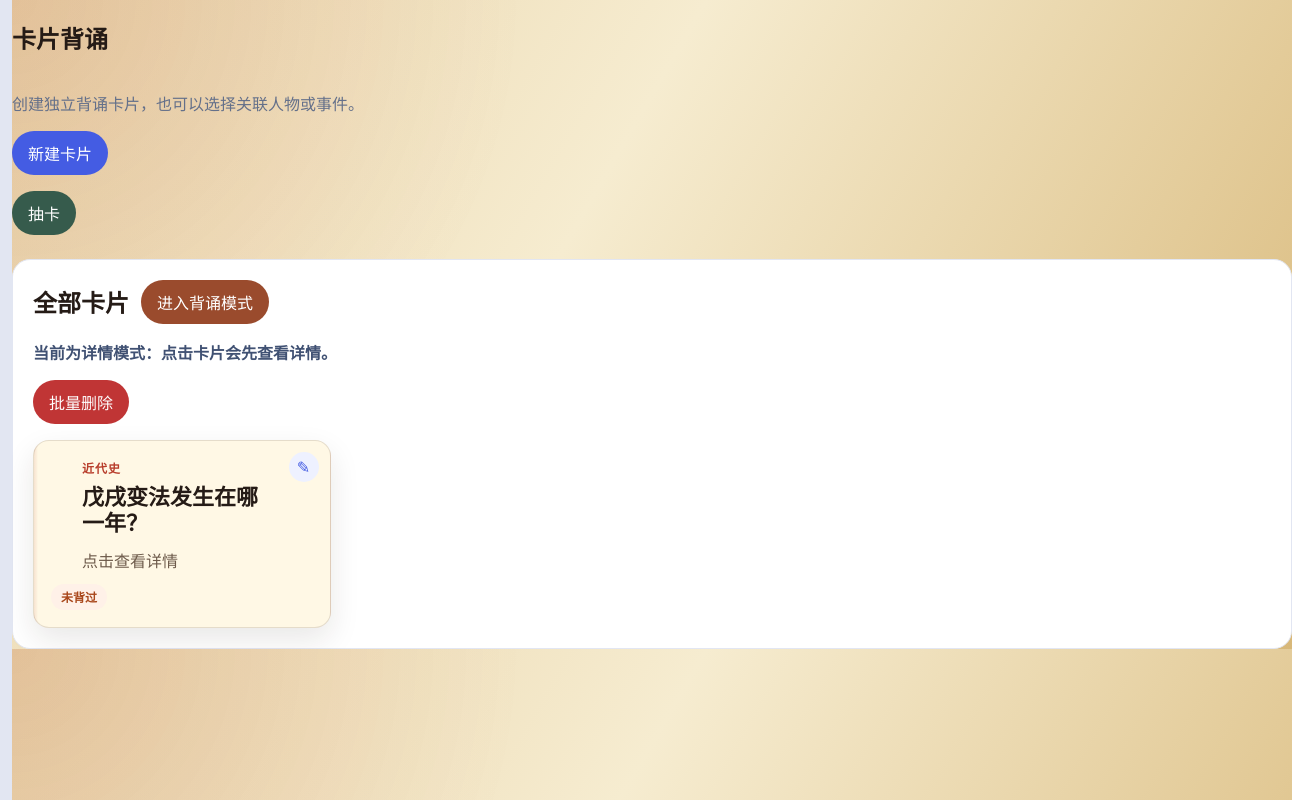
Test: FlashcardPage › selects cards instead of opening details in batch delete mode
Click the button "批量删除".
click(81, 402)  # box left=33, top=380, right=129, bottom=424
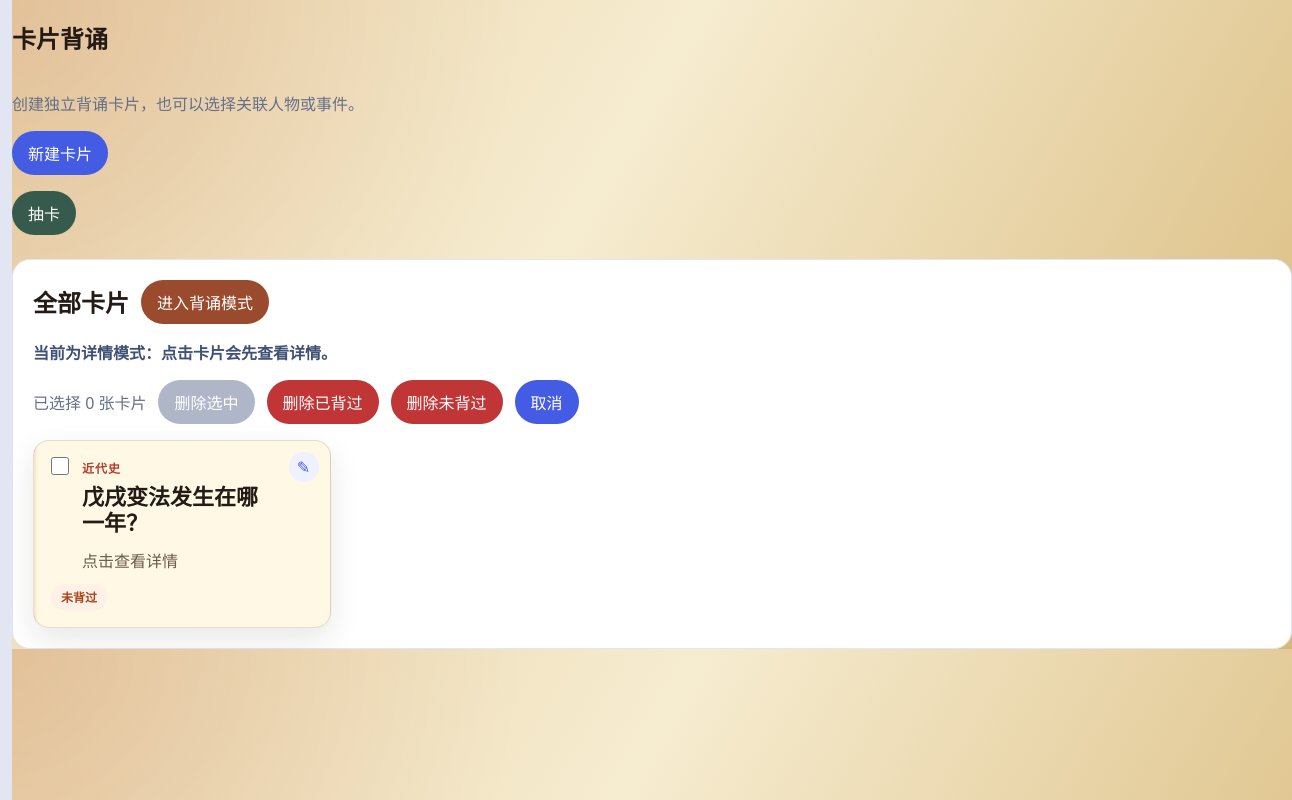
Click the button with class "card-preview-button".
click(182, 534)  # box left=33, top=440, right=330, bottom=628
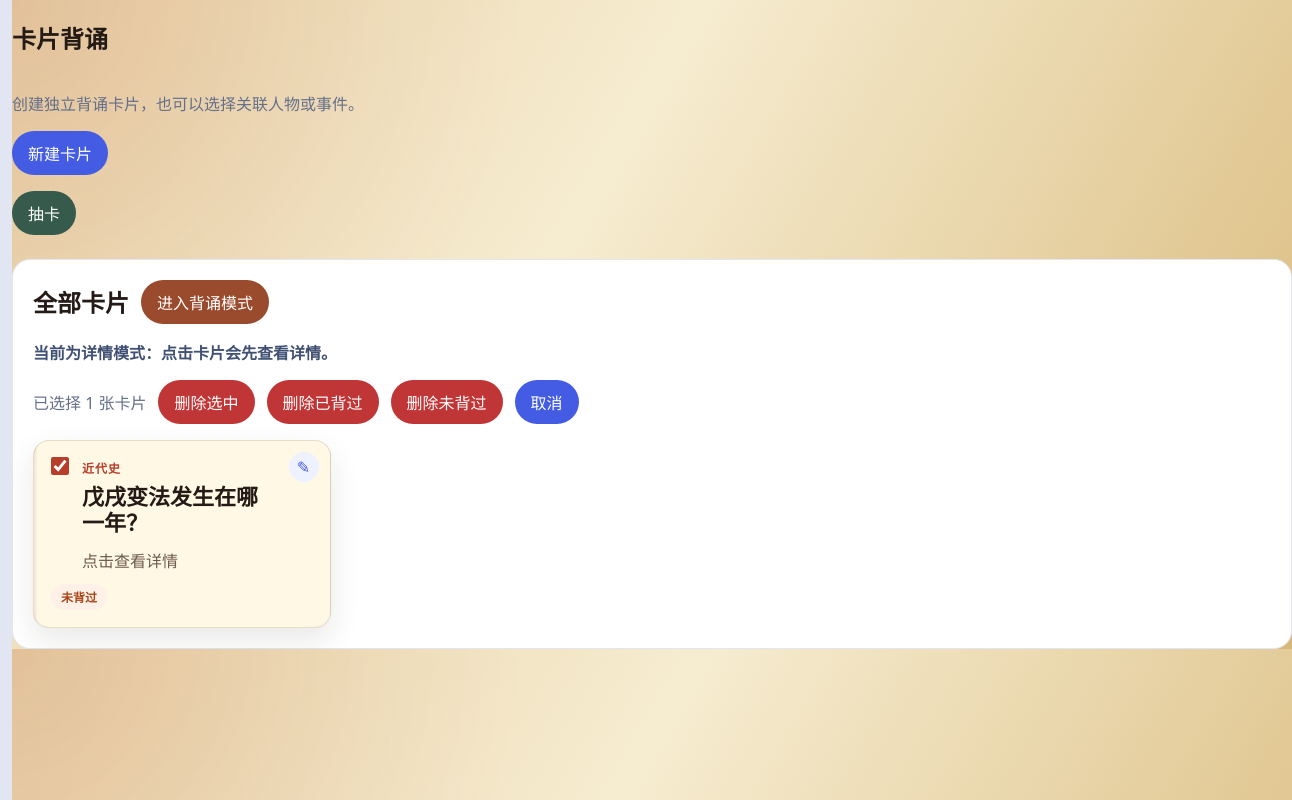
Result: the element with class "batch-actions" shows "已选择 1 张卡片" at left=33, top=392, right=146, bottom=414
